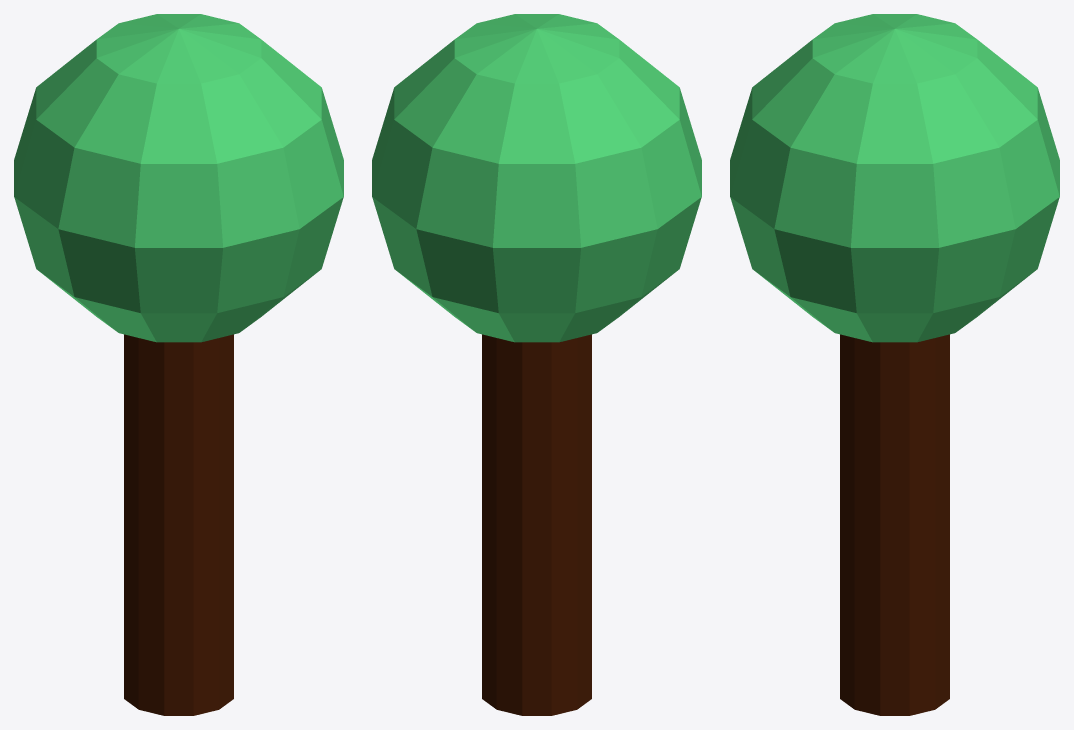
File: Tree.gltf
3 renders of one model, left to right at view 1: azimuth 30°, elevation 25°; view 2: azimuth 150°, elevation 25°; view 3: azimuth 270°, elevation 25°, orthographic.
Visible parts, largest first — view 1: sphere, cylinder; view 2: sphere, cylinder; view 3: sphere, cylinder.
Part boxes in pixels (<box>): sphere: <box>14,14,343,342</box>; cylinder: <box>124,334,233,715</box>; sphere: <box>372,14,701,342</box>; cylinder: <box>482,334,591,715</box>; sphere: <box>730,14,1059,342</box>; cylinder: <box>840,334,949,715</box>.
Bounding box in the file's own units: 1.12 × 2.5 × 1.12.
Materials: 2 (2 with a texture image).
